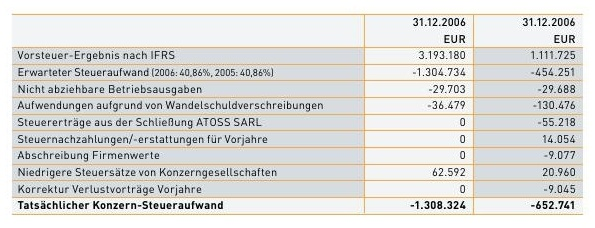table: (0, 0, 595, 228)
